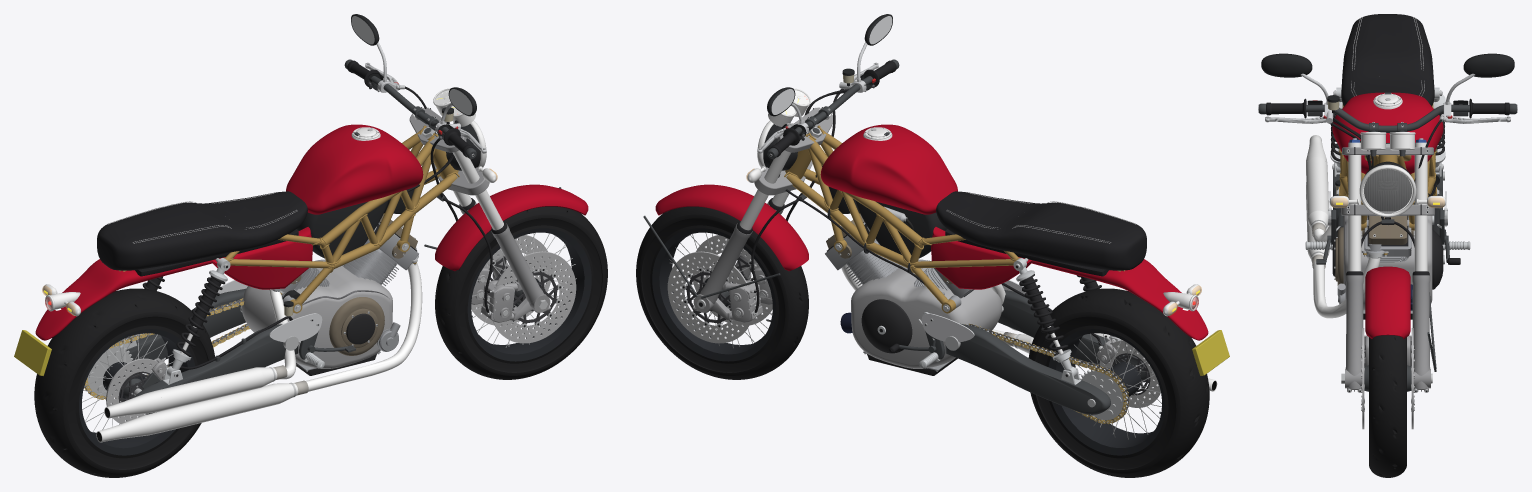
The model's file is corvano_classic.glb.
3 views of the same model, side by side, from view 1: azimuth 30°, elevation 25°; view 2: azimuth 150°, elevation 25°; view 3: azimuth 270°, elevation 25° (orthographic). The views are drawn at different scales.
Parts seen in each view (by area): view 1: corvano_classic; view 2: corvano_classic; view 3: corvano_classic.
Boxes of the visible parts, x1=… form: corvano_classic: x1=14, y1=14, x2=607, y2=477; corvano_classic: x1=636, y1=14, x2=1229, y2=477; corvano_classic: x1=1258, y1=14, x2=1517, y2=477.
Size of the model in its own units: 2.18 by 1.25 by 0.8198.
